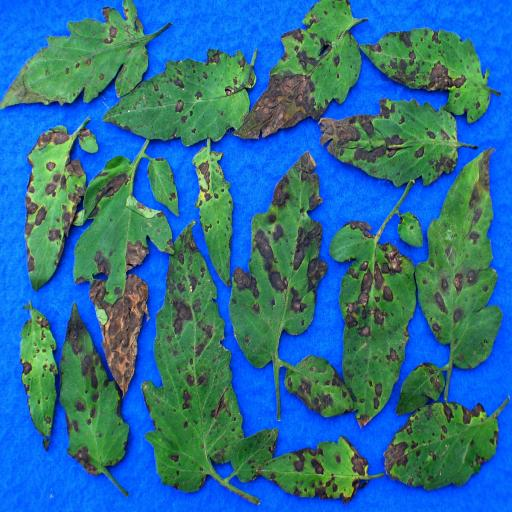disease_tomato: (146, 219, 248, 494), (70, 156, 174, 394), (232, 154, 326, 372), (414, 147, 502, 371), (234, 0, 366, 136), (330, 226, 412, 436), (2, 2, 150, 106), (110, 49, 260, 143), (313, 100, 459, 188), (58, 304, 130, 476), (362, 26, 494, 116), (26, 111, 86, 295), (383, 400, 501, 488), (255, 435, 383, 505), (189, 141, 234, 287), (18, 302, 60, 452), (286, 355, 352, 417), (138, 159, 180, 225), (399, 360, 444, 414)
